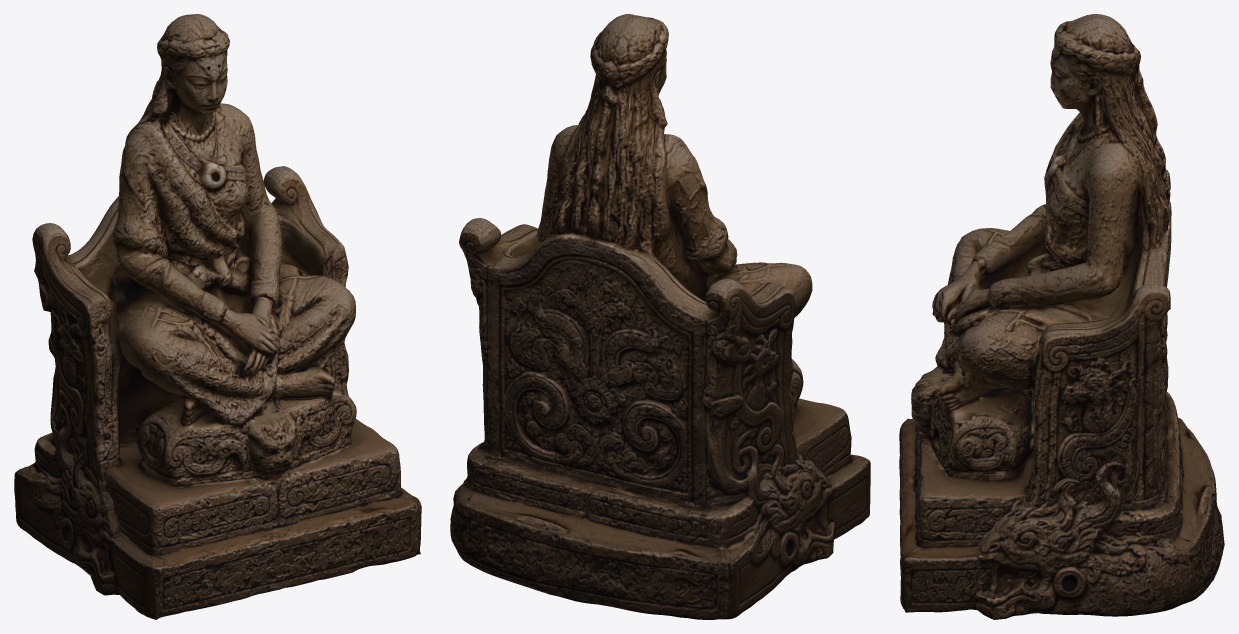
File: bodhisattva_statue_3d_model.fbx
3 views of the same model, side by side, from view 1: azimuth 30°, elevation 25°; view 2: azimuth 150°, elevation 25°; view 3: azimuth 270°, elevation 25° (orthographic). The views are drawn at different scales.
Parts seen in each view (by area): view 1: tripo_node_669d373f; view 2: tripo_node_669d373f; view 3: tripo_node_669d373f.
Part boxes in pixels (<box>): tripo_node_669d373f: <box>14,14,421,619</box>; tripo_node_669d373f: <box>450,14,870,619</box>; tripo_node_669d373f: <box>899,14,1224,619</box>.
Bounding box in the file's own units: 0.5731 × 0.9787 × 0.5431.
